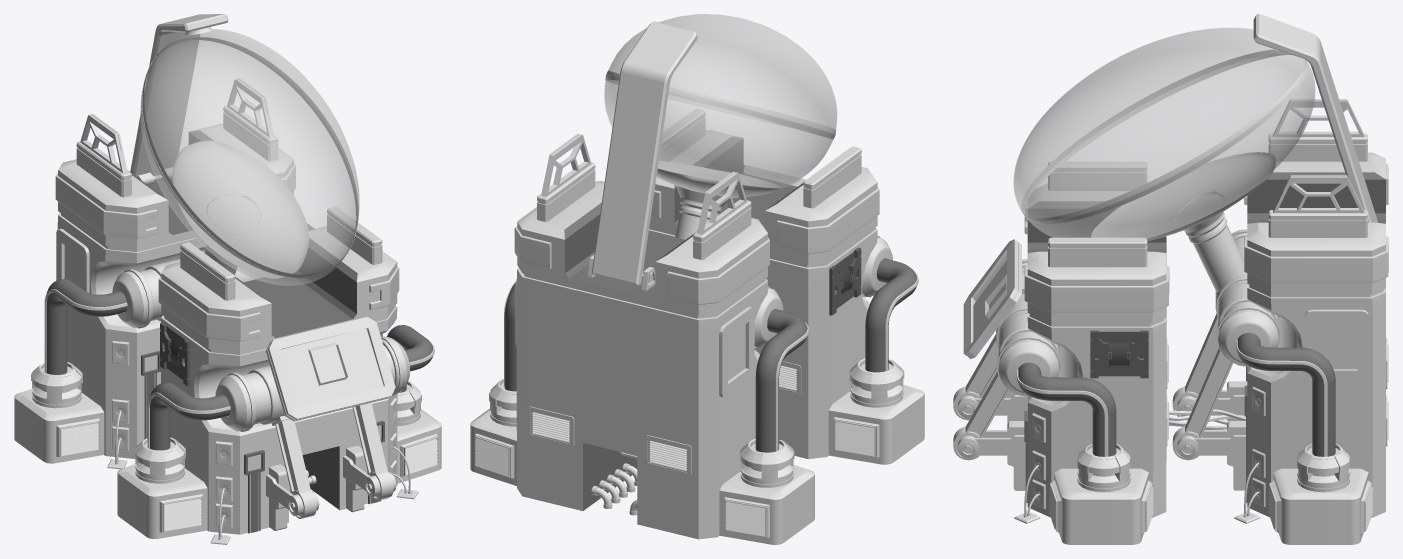
Rendered from Incubator.fbx.
3 renders of one model, left to right at view 1: azimuth 30°, elevation 25°; view 2: azimuth 150°, elevation 25°; view 3: azimuth 270°, elevation 25°, orthographic. The views are drawn at different scales.
Visible parts, largest first — view 1: POD1, POD1.001; view 2: POD1, POD1.001; view 3: POD1, POD1.001.
Part boxes in pixels (bbox=[...]): POD1: bbox=[14, 14, 441, 544]; POD1.001: bbox=[142, 29, 359, 276]; POD1: bbox=[470, 21, 924, 544]; POD1.001: bbox=[606, 14, 836, 134]; POD1: bbox=[953, 14, 1388, 544]; POD1.001: bbox=[1013, 28, 1306, 221].
Size of the model in its own units: 116 by 159 by 140.
